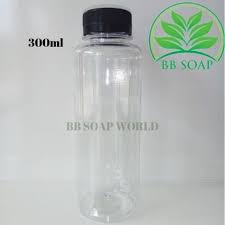available: (67, 9, 152, 222)
